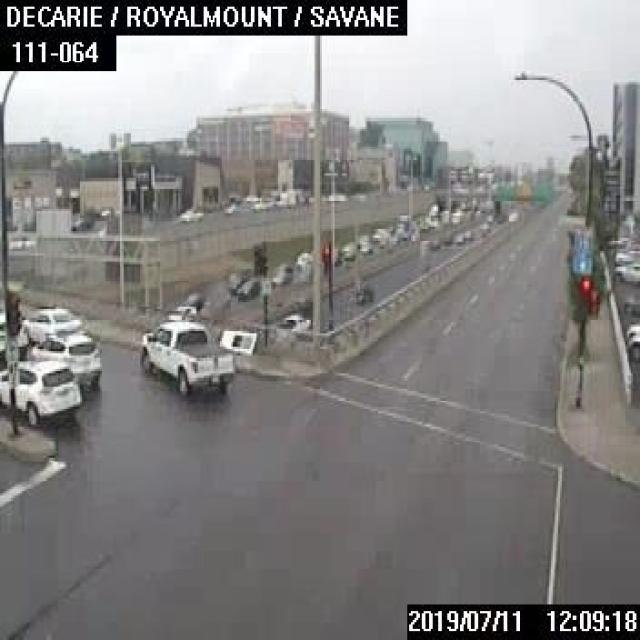vehicle: (136, 318, 235, 393), (0, 354, 80, 424), (29, 331, 101, 389), (20, 303, 85, 343), (234, 274, 262, 300), (269, 260, 296, 284), (278, 311, 311, 329), (613, 260, 638, 283), (349, 280, 371, 302), (68, 210, 92, 228), (177, 207, 202, 221), (626, 332, 638, 358), (625, 322, 638, 336)
